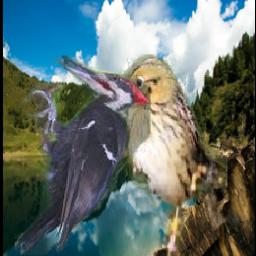Sparrow: (115, 54, 228, 256)
Woodpecker: (15, 56, 151, 255)
